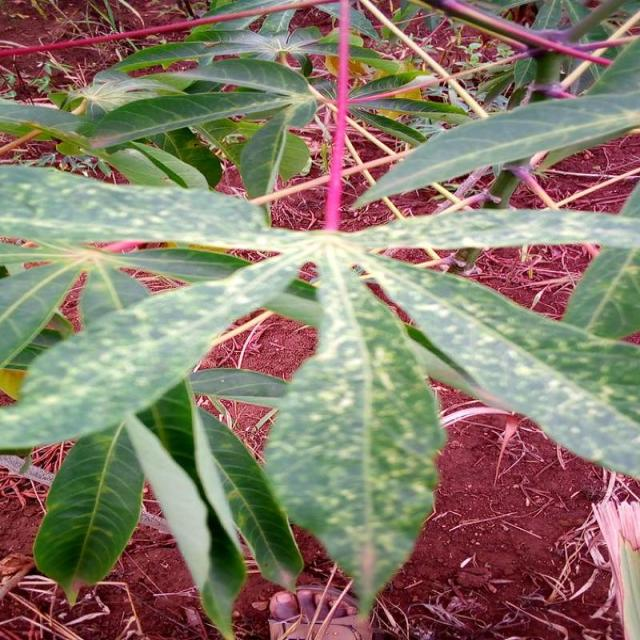cassava leaf: (0, 1, 638, 633), (262, 252, 447, 616), (355, 249, 639, 481), (350, 33, 638, 211)
